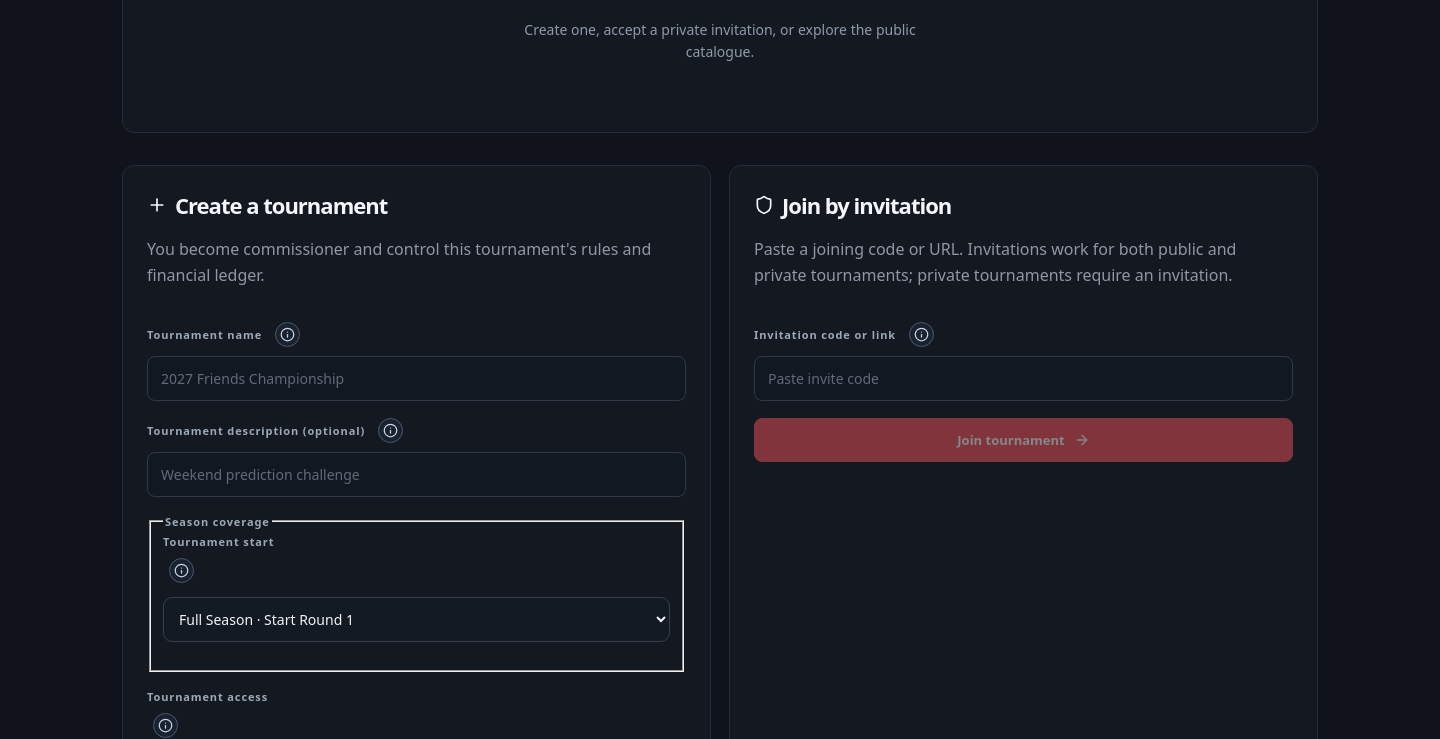
TournamentLobby › creates a tournament with an invitation code
This screenshot has width=1440, height=739.
(page scrolled)
In the field with placeholder "2027 Friends Championship": (416, 378) x1=147 y1=356 x2=686 y2=400, type "New Racers"
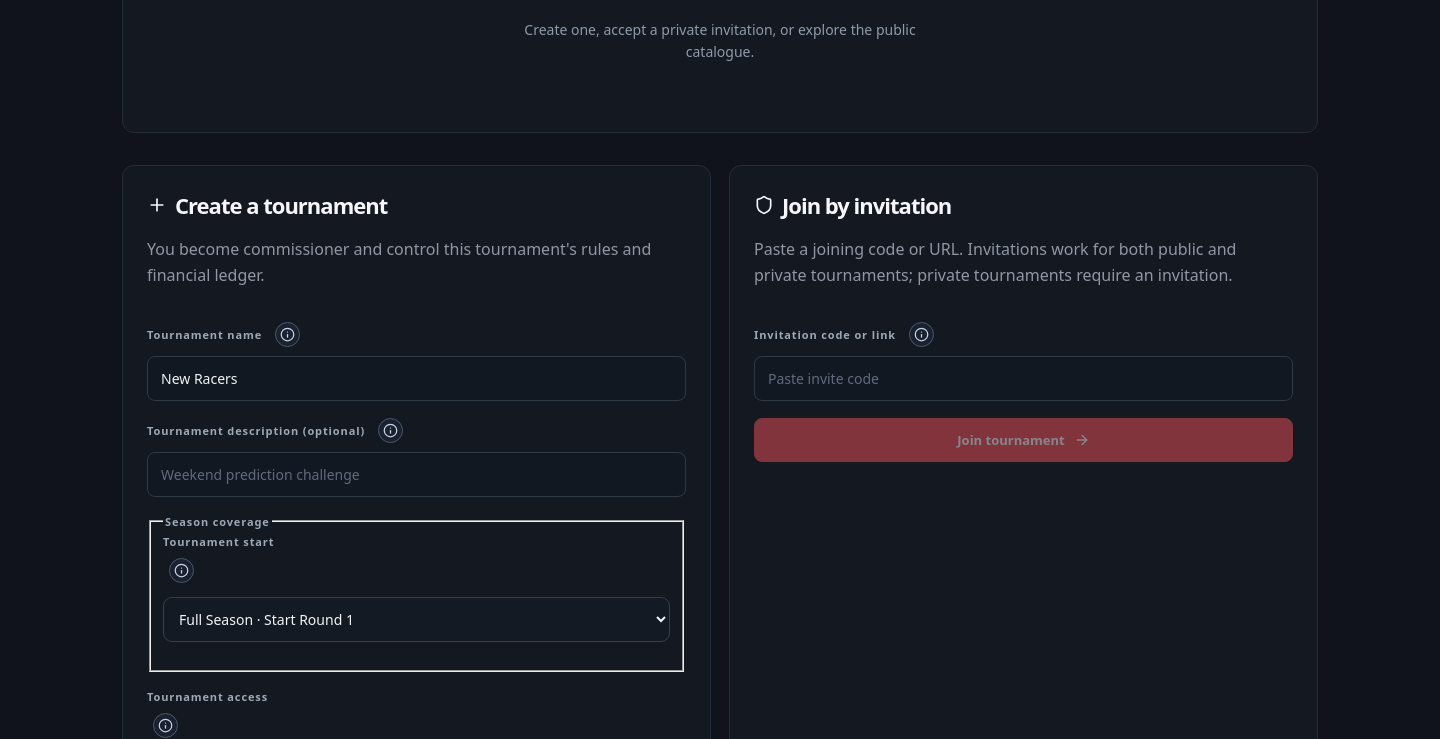
In the field with placeholder "Weekend prediction challenge": (416, 474) x1=147 y1=452 x2=686 y2=496, type "For colleagues"
(page scrolled)
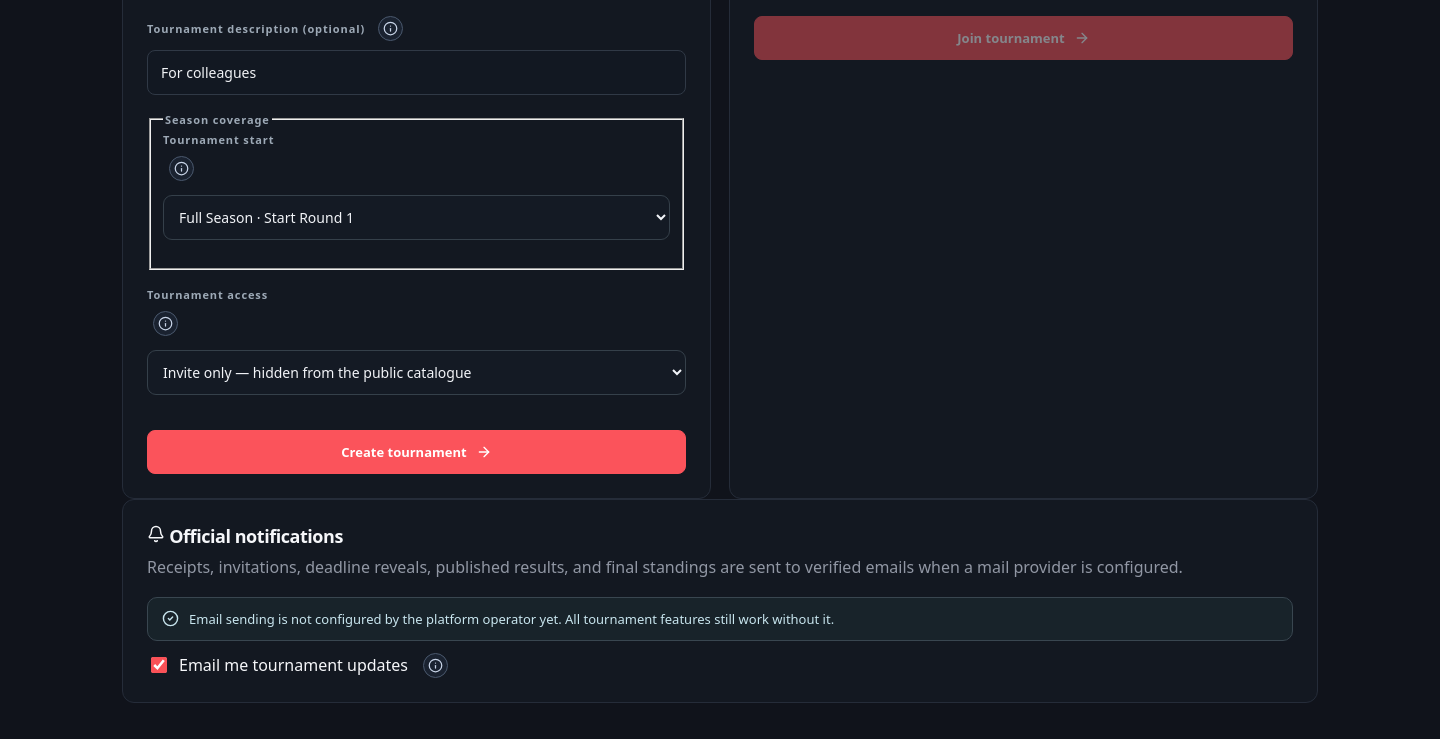
Click the button "Create tournament": (416, 452) x1=147 y1=430 x2=686 y2=474
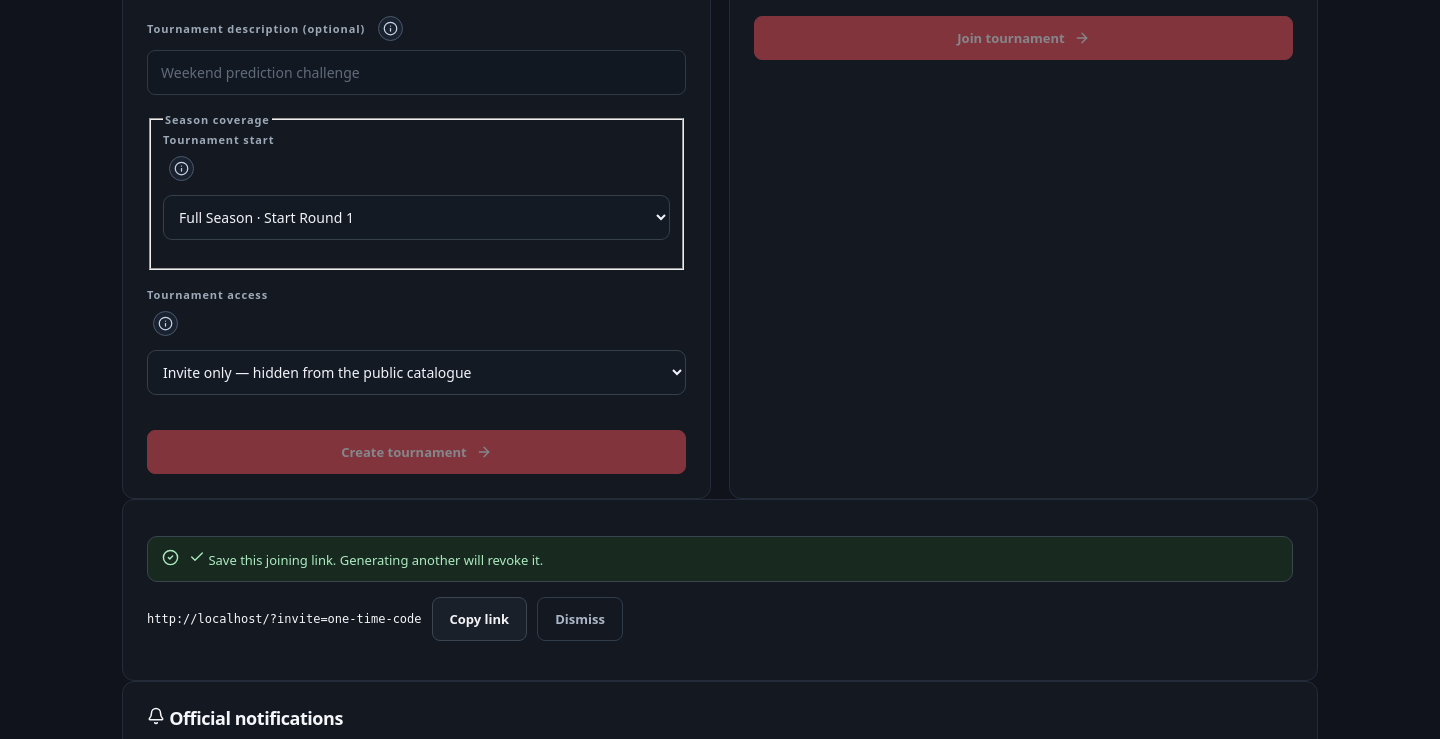
Now the text "one-time-code" is shown, box x1=147 y1=612 x2=422 y2=626
